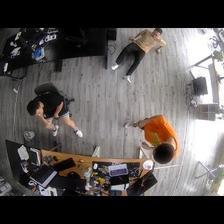fall: (111, 28, 168, 84)
normal: (25, 84, 82, 138), (123, 111, 179, 165)
